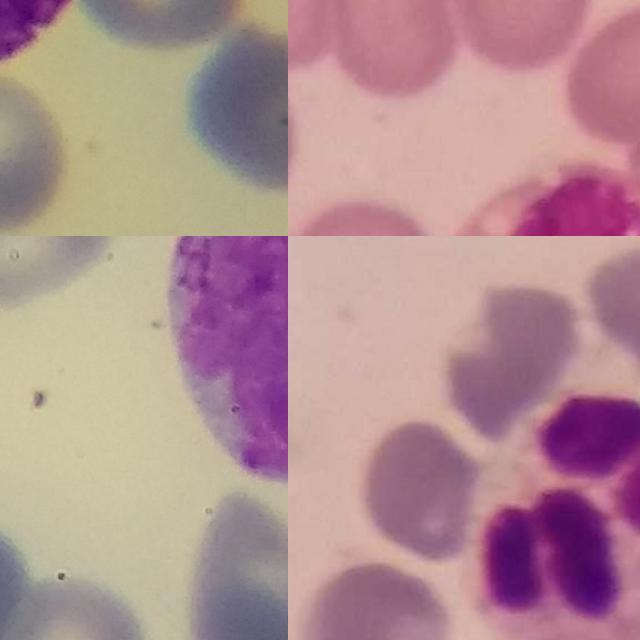Basophil: (171, 236, 288, 489)
Neutrophil: (465, 397, 640, 640)
